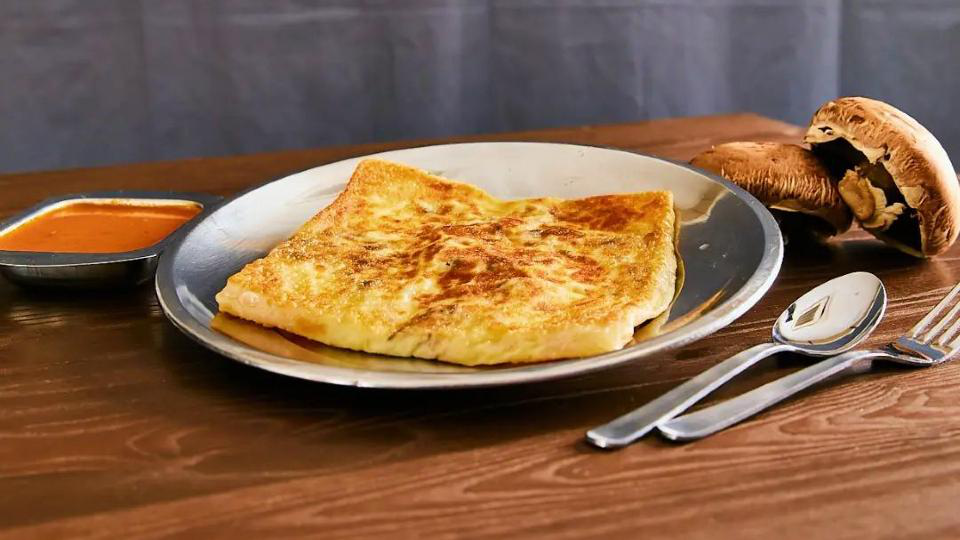Prata: (219, 149, 682, 371)
